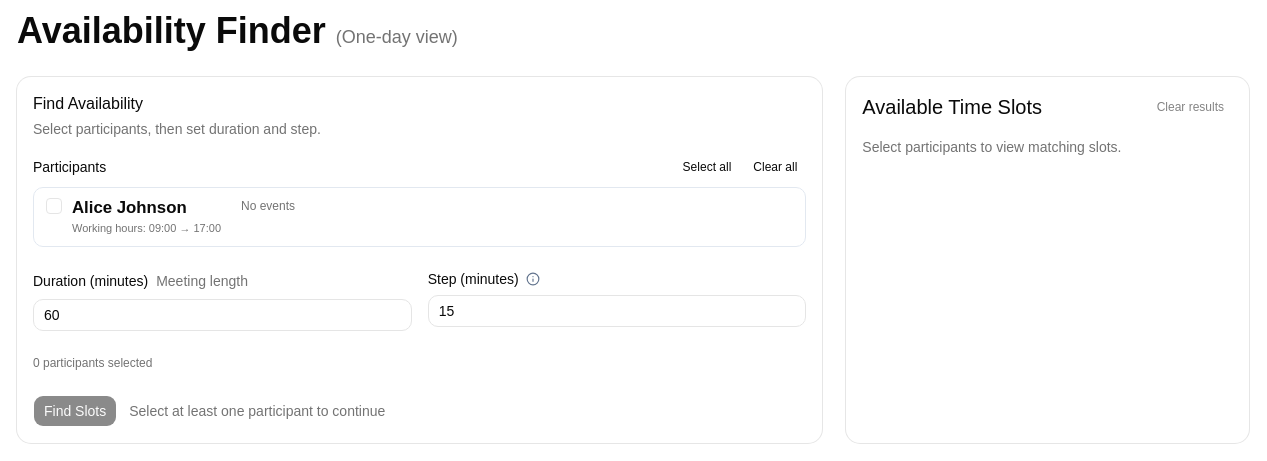
App request lifecycle › only applies the latest successful submit
Step 1. Click the checkbox named "Alice Johnson" → (54,206), box [46, 198, 62, 214]
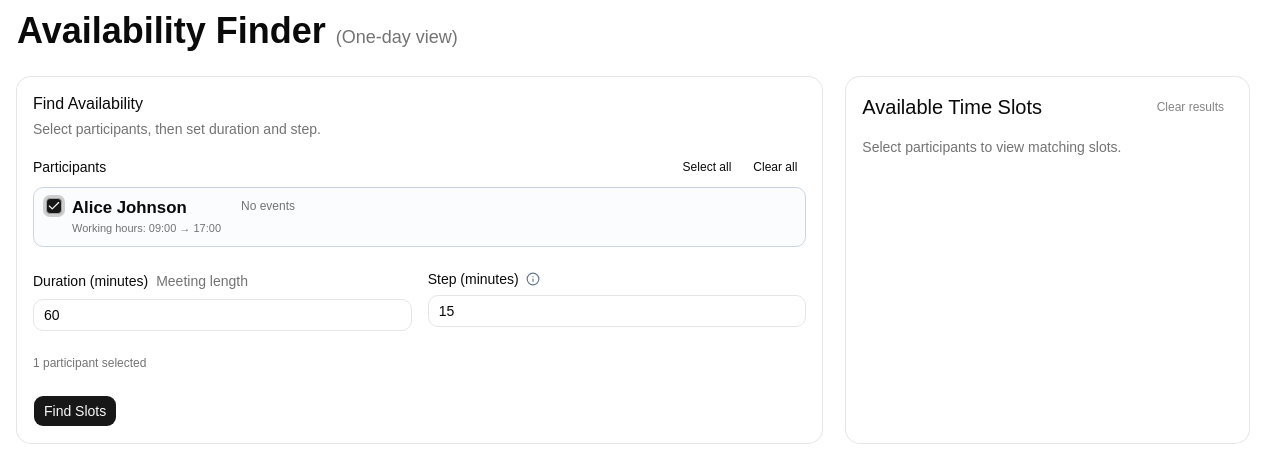
Step 2. Click the button "Find Slots" → (75,411), box [33, 395, 117, 427]
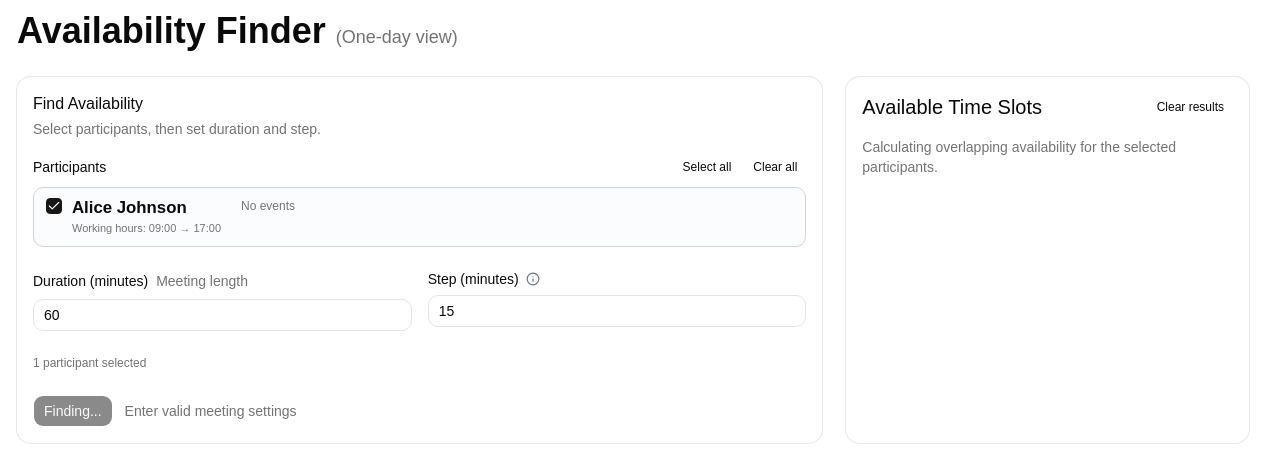
Step 3. Click the button "Clear results" → (1190,107), box [1148, 95, 1233, 119]
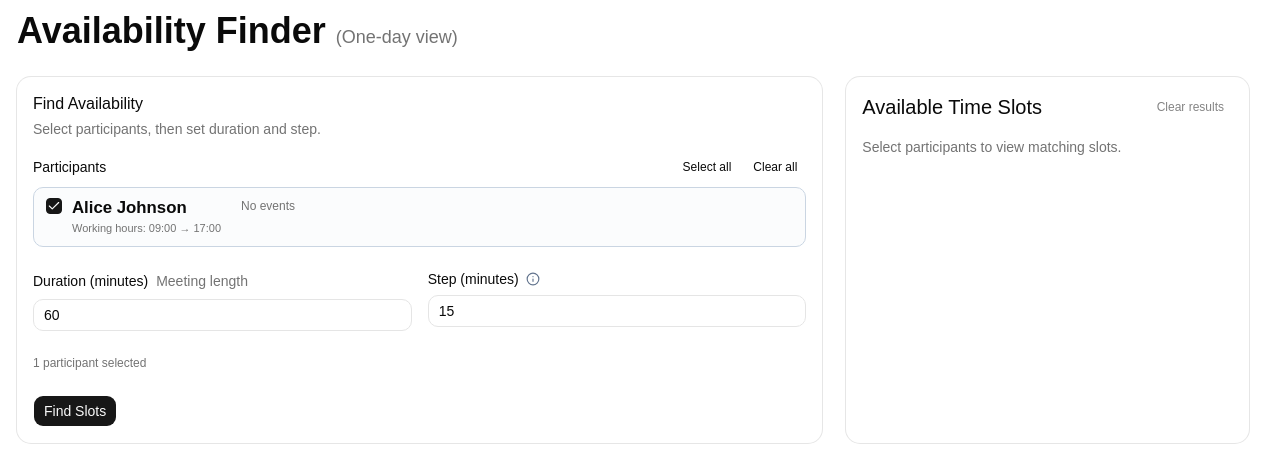
Step 4. Click the button "Find Slots" → (75,411), box [33, 395, 117, 427]
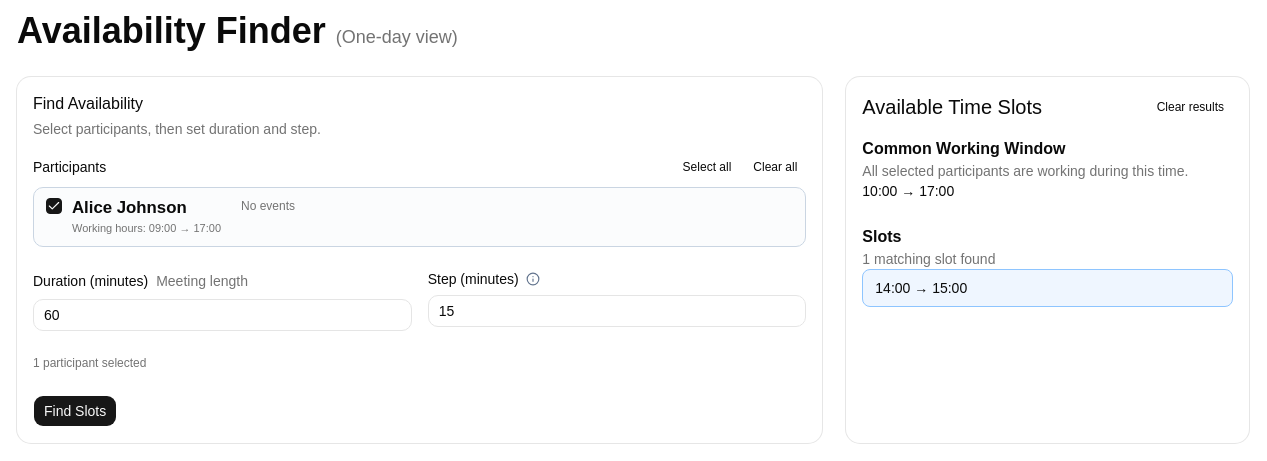
Expected: the text "14:00 → 15:00" is shown, [862, 269, 1233, 307]
